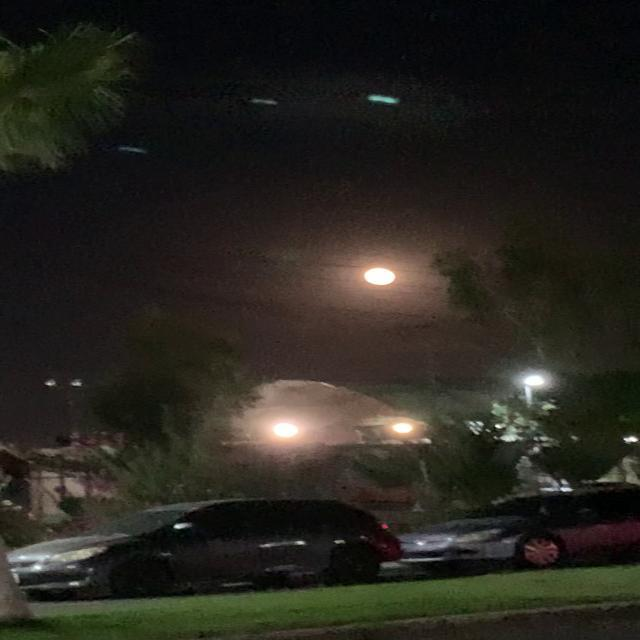moon: (344, 266, 397, 292)
